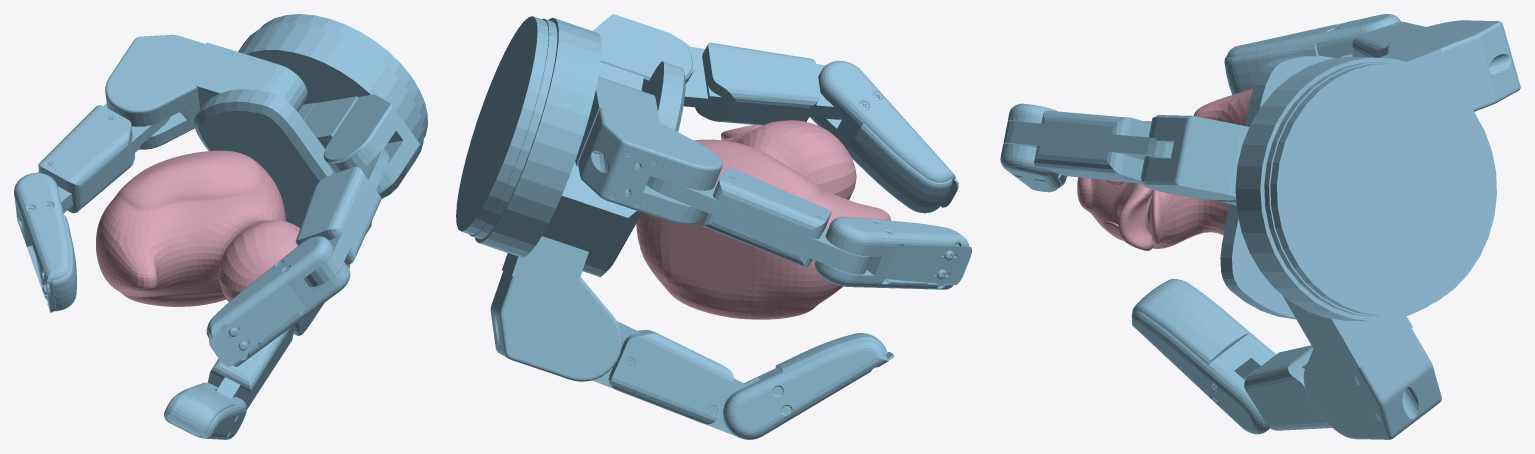
3 renders of one model, left to right at view 1: azimuth 30°, elevation 25°; view 2: azimuth 150°, elevation 25°; view 3: azimuth 270°, elevation 25°, orthographic. The views are drawn at different scales.
Visible parts, largest first — view 1: world, rubber_duck.stl; view 2: world, rubber_duck.stl; view 3: world, rubber_duck.stl.
Part boxes in pixels (bbox=[...]): world: bbox=[14, 14, 427, 439]; rubber_duck.stl: bbox=[96, 150, 350, 306]; world: bbox=[456, 14, 971, 439]; rubber_duck.stl: bbox=[636, 120, 890, 319]; world: bbox=[1000, 14, 1520, 439]; rubber_duck.stl: bbox=[1077, 88, 1252, 250].
Size of the model in its own units: 0.2002 by 0.1675 by 0.1753.
